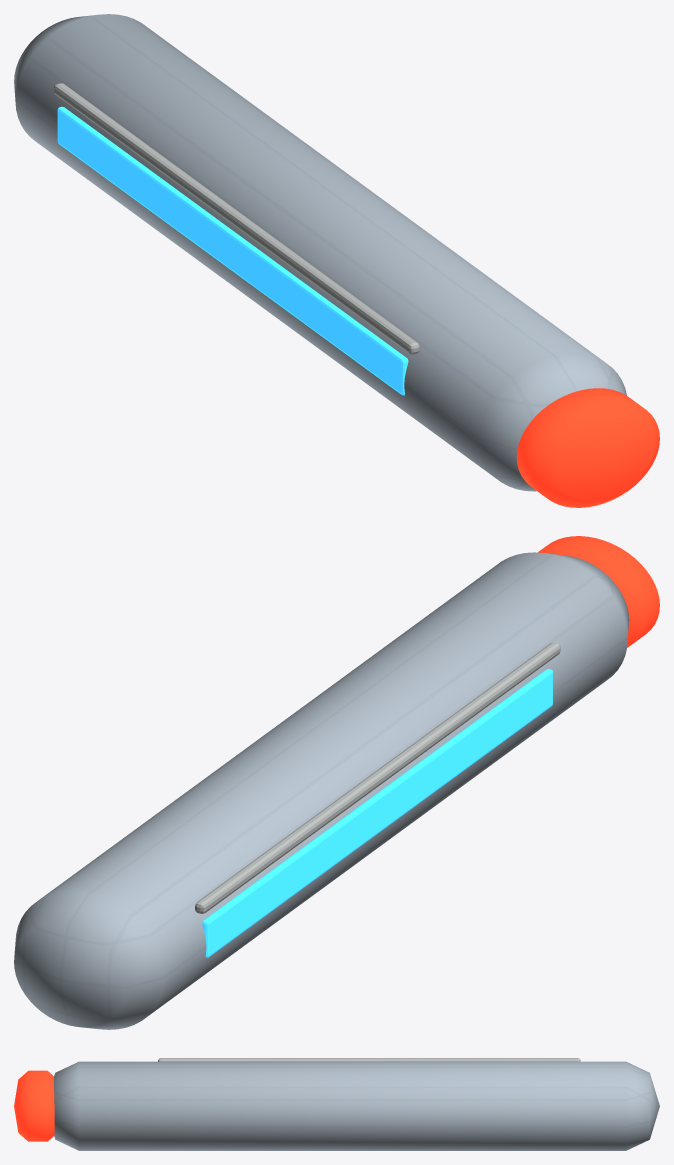
Rendered from OriginalCruiser_Nacelle_A.fbx.
The picture shows the model from 3 angles, top to bottom: view 1: azimuth 30°, elevation 25°; view 2: azimuth 150°, elevation 25°; view 3: azimuth 270°, elevation 25°; orthographic projection. The views are drawn at different scales.
Parts seen in each view (by area): view 1: OriginalCruiser_Nacelle_A; view 2: OriginalCruiser_Nacelle_A; view 3: OriginalCruiser_Nacelle_A.
Boxes of the visible parts, x1,y1,x2,y2 form: OriginalCruiser_Nacelle_A: (14,14,659,507); OriginalCruiser_Nacelle_A: (14,536,659,1029); OriginalCruiser_Nacelle_A: (14,1058,659,1150).
Size of the model in its own units: 5080 by 4303 by 32157.
Materials: 1 (1 with a texture image).
